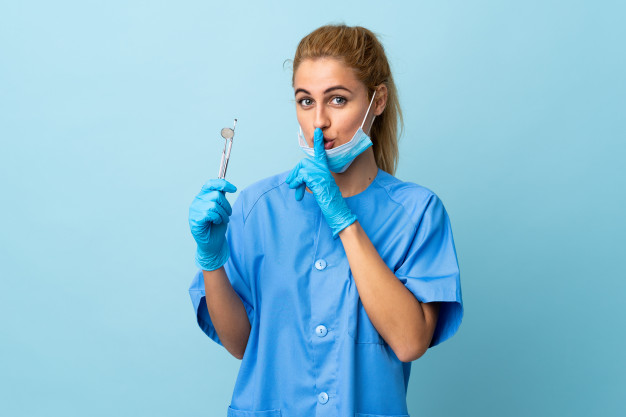mask_weared_incorrect: (290, 59, 391, 176)
